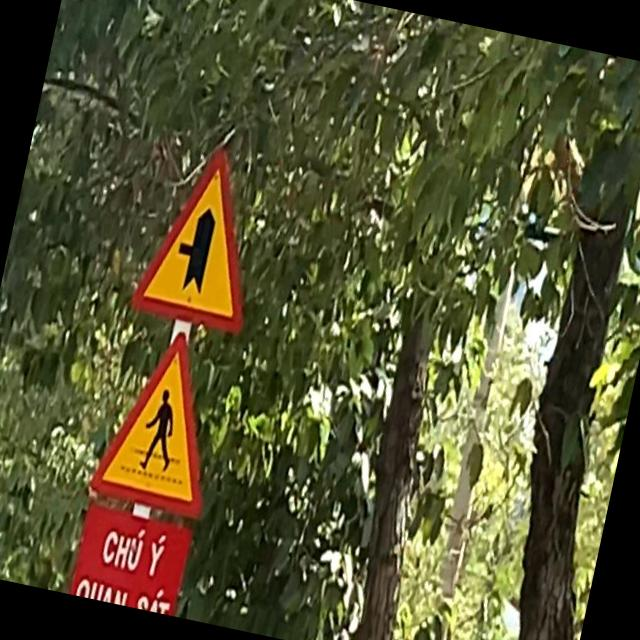W-207c: (126, 131, 277, 337)
W-224: (86, 318, 238, 522)
